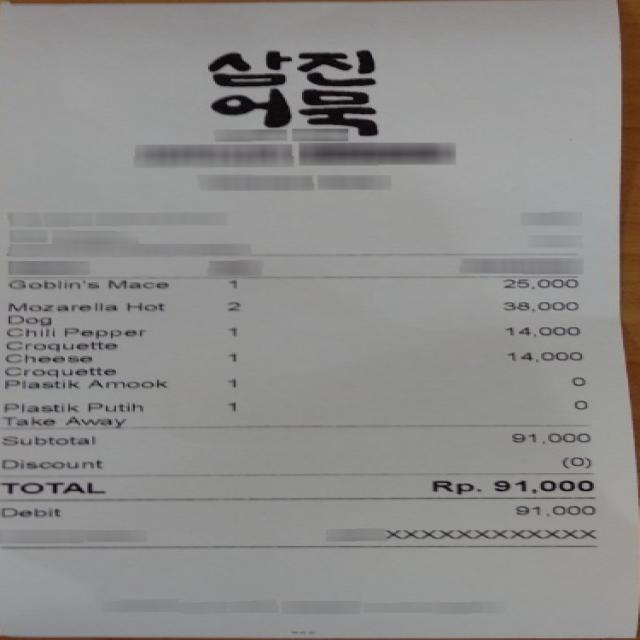text: (384, 528, 594, 538), (4, 339, 114, 352), (490, 479, 590, 492), (0, 481, 104, 493), (4, 301, 114, 312), (2, 367, 111, 377), (62, 326, 144, 338), (510, 430, 587, 442), (0, 434, 92, 444), (0, 459, 99, 468), (503, 325, 577, 336), (0, 401, 74, 412), (7, 279, 95, 288), (3, 352, 89, 361), (503, 350, 577, 360), (514, 505, 592, 514), (428, 479, 478, 493), (87, 377, 164, 386), (500, 278, 575, 287), (4, 378, 75, 387), (63, 416, 121, 427), (500, 302, 575, 310), (3, 324, 53, 336), (0, 507, 58, 517), (106, 279, 165, 288), (7, 314, 49, 326), (85, 402, 140, 411), (0, 416, 51, 425), (125, 301, 162, 311), (560, 456, 587, 466), (222, 300, 239, 312), (570, 398, 587, 409), (566, 376, 586, 385), (224, 277, 237, 289), (226, 377, 236, 389), (222, 400, 234, 410), (226, 326, 236, 337), (226, 351, 236, 362)
